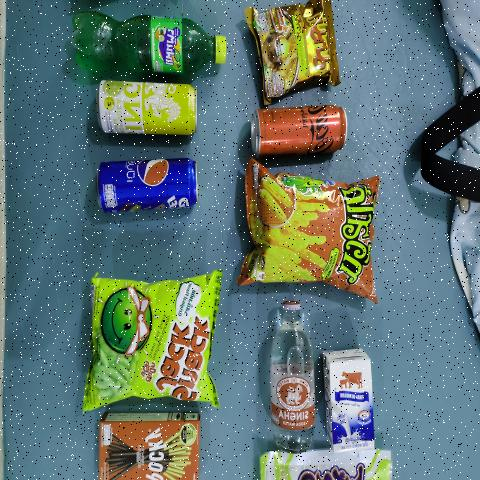coke_red: (253, 106, 344, 155)
fanta_green: (63, 11, 231, 76)
mama: (258, 3, 335, 91)
pepsi_blue: (94, 156, 198, 218)
pokki: (106, 420, 195, 480)
singha_soda: (269, 298, 311, 444)
singha_yellow: (100, 86, 196, 135)
snack_jack: (92, 282, 209, 398)
thai_denmark: (328, 362, 369, 444)
twisco: (253, 182, 371, 275)
